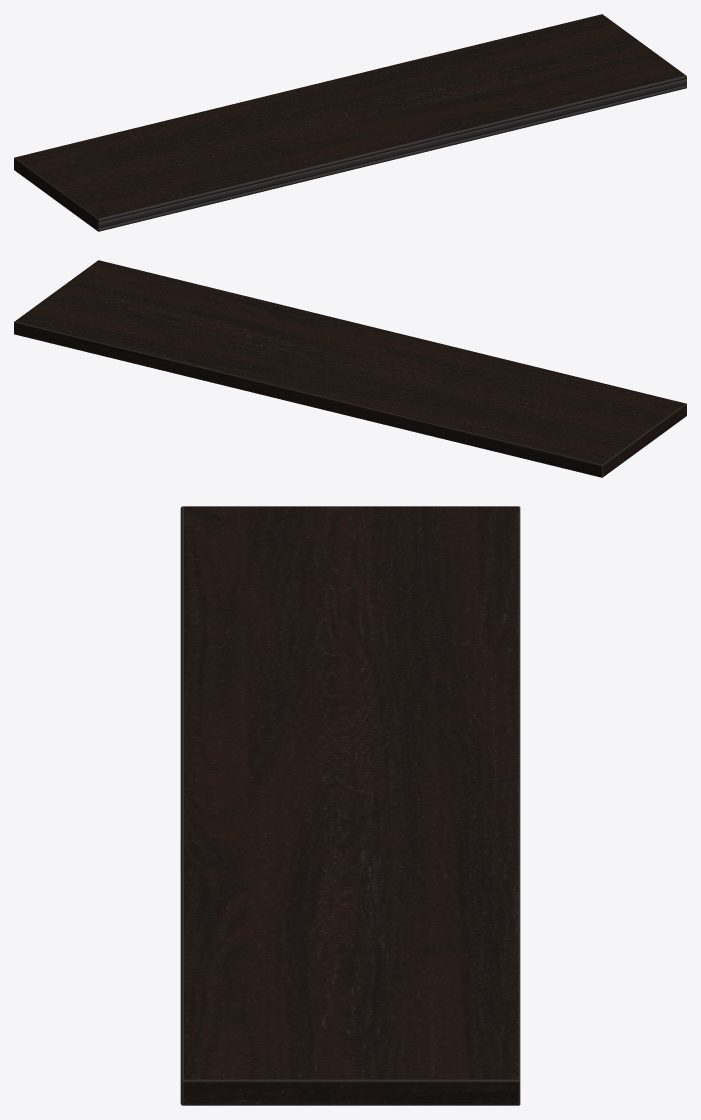
Rendered from 16 - BERGSHULT Shelf - brown-black 120x30 cm.glb.
3 views of the same model, one above another, from view 1: azimuth 30°, elevation 25°; view 2: azimuth 150°, elevation 25°; view 3: azimuth 270°, elevation 25° (orthographic). The views are drawn at different scales.
Visible parts, largest first — view 1: Mesh_0; view 2: Mesh_0; view 3: Mesh_0.
Boxes of the visible parts, x1,y1,x2,y2 form: Mesh_0: [14, 14, 686, 231]; Mesh_0: [14, 260, 686, 477]; Mesh_0: [180, 506, 520, 1105].
Bounding box in the file's own units: 1.2 × 0.025 × 0.3.
Materials: 1 (1 with a texture image).
